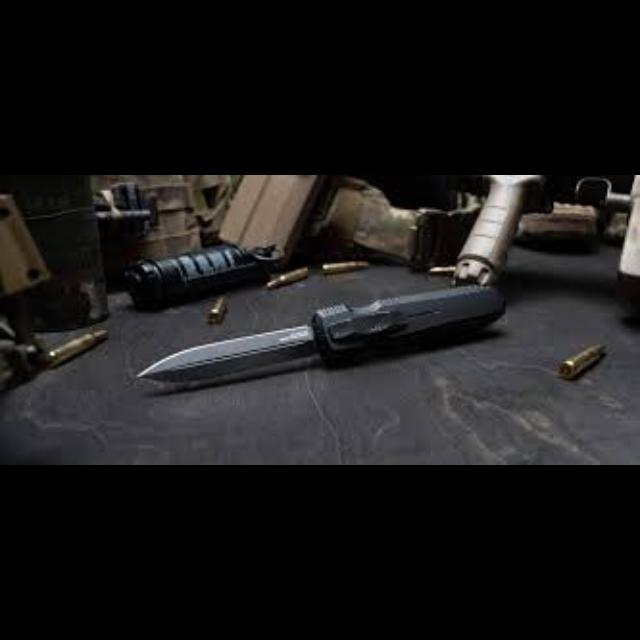Knife: (135, 283, 505, 392)
